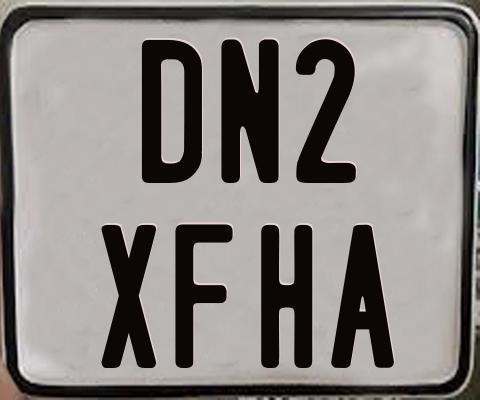2: (296, 39, 361, 187)
A: (328, 224, 397, 368)
D: (141, 38, 207, 183)
F: (175, 223, 234, 367)
H: (258, 222, 311, 367)
N: (221, 39, 284, 186)
X: (99, 223, 158, 367)
